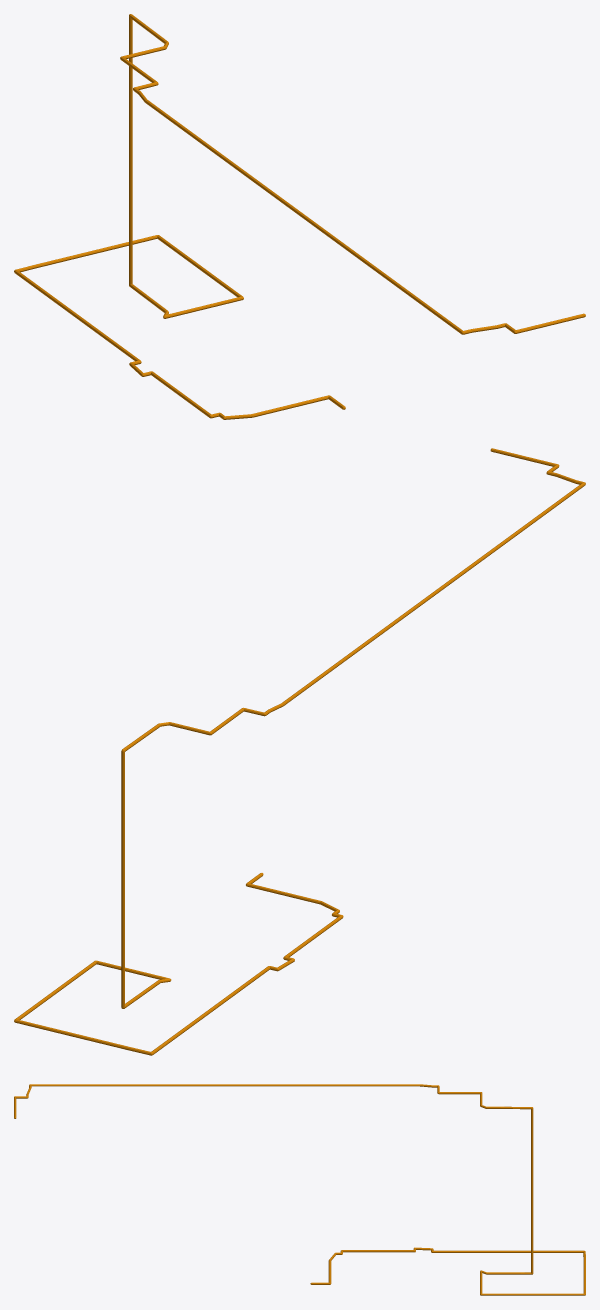
3 renders of one model, top to bottom at view 1: azimuth 30°, elevation 25°; view 2: azimuth 150°, elevation 25°; view 3: azimuth 270°, elevation 25°, orthographic. The views are drawn at different scales.
Bounding box in the file's own units: 912 × 1520 × 4697.
